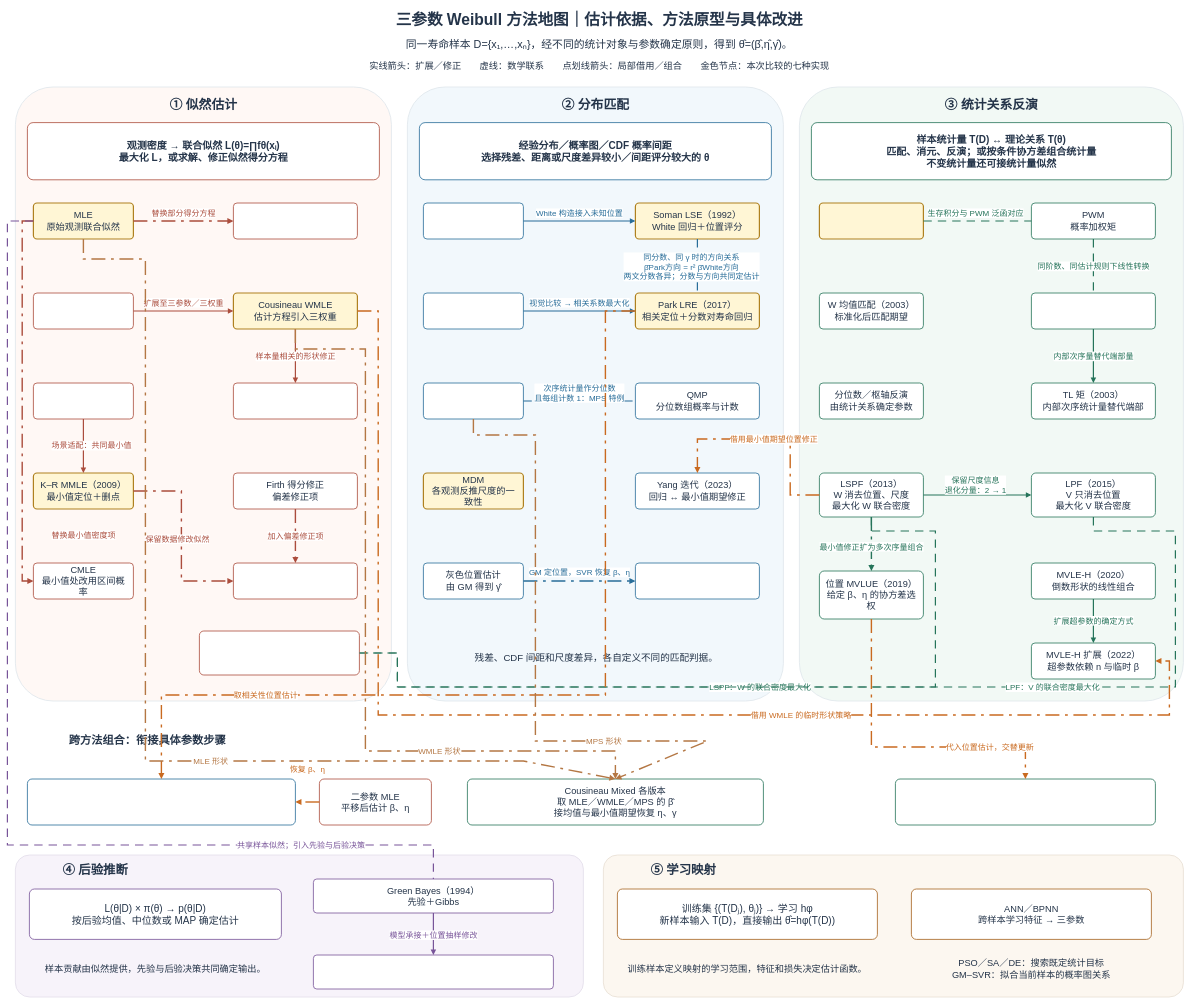
Image size: 1191x1004. Some labels were removed from this diagram. The centre of each missing label's shape, as x and y in pixels:
Cohen–Whitten MMLE 位置／矩关系替换: point 295,220
DMMLE（2025） 数据修改＋得分修正: point 295,580
GM–SVR（2021） 当前样本的 ε-SVR 拟合: point 697,580
Jacquelin（1993） 二参数代数推导: point 83,310
L 矩（1990） 次序统计量线性组合: point 1093,310
Lipson–Sheth 概率图相关性定位: point 473,310
MM：Cran（1988） Weibull moments 显式恢复: point 871,220
MPS 相邻 CDF 概率间距: point 473,400
Park Proposed+MLE2 相关定位 γ → 二参数 MLE 恢复 β、η: point 161,801
Smith（1985） 最小值替代构造: point 83,400
Teimouri 后验方案 承接模型，位置更新改用 MH: point 433,971
White（1969） 概率图分数与回归: point 473,220
初始失效期迭代（2025） 位置 MVLUE ↔ 平移后二参数恢复: point 1025,801
杨小玉等（2024） WMLE 形状偏差修正: point 295,400
统计量似然 最大化变换统计量的联合密度: point 279,652
